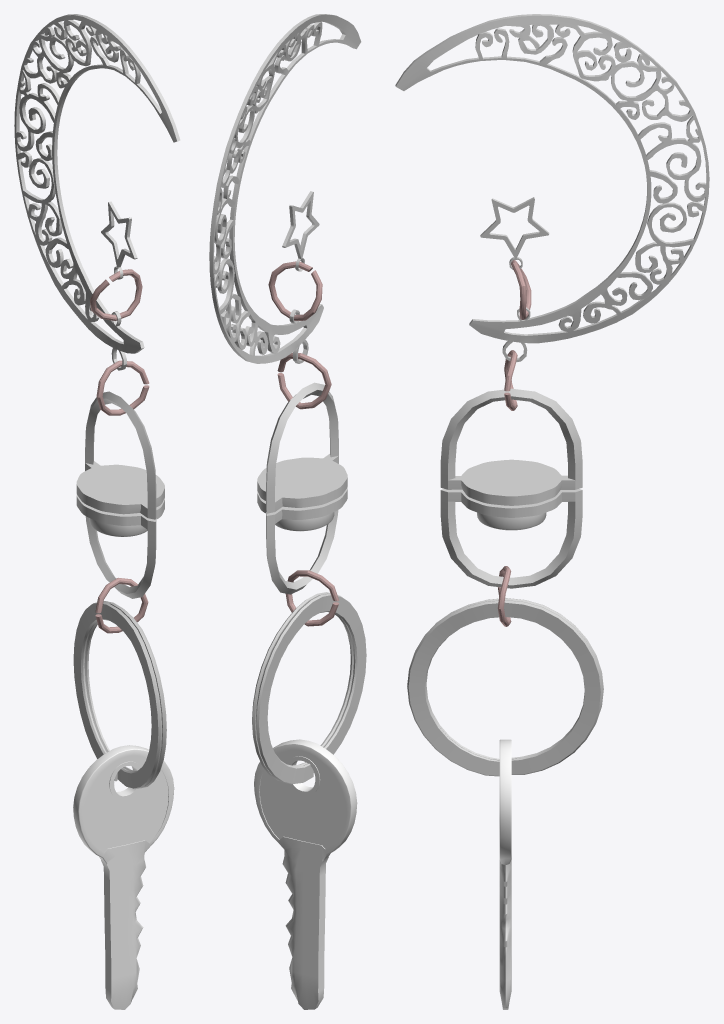
Rendered from AOKey.glb.
3 renders of one model, left to right at view 1: azimuth 30°, elevation 25°; view 2: azimuth 150°, elevation 25°; view 3: azimuth 270°, elevation 25°, orthographic. The views are drawn at different scales.
Parts seen in each view (by area): view 1: AOKeyCrescent, AOKeyKey, AOKeyChainHolder, AOKeyChain(FirstPiece), AOKeyChain(SecondPiece), AOKeyStar, AOKeySecondChainLink, AOKeyThirdChainLink, AOKeyFirstChainLink; view 2: AOKeyKey, AOKeyCrescent, AOKeyChainHolder, AOKeyChain(FirstPiece), AOKeyChain(SecondPiece), AOKeyThirdChainLink, AOKeyStar, AOKeySecondChainLink, AOKeyFirstChainLink; view 3: AOKeyCrescent, AOKeyChainHolder, AOKeyChain(FirstPiece), AOKeyChain(SecondPiece), AOKeyKey, AOKeyStar.
Part boxes in pixels (box(x1,y1,x2,y2)): AOKeyCrescent: box(14, 14, 180, 370); AOKeyKey: box(73, 745, 174, 1009); AOKeyChainHolder: box(73, 601, 166, 788); AOKeyChain(FirstPiece): box(76, 391, 164, 536); AOKeyChain(SecondPiece): box(76, 494, 164, 598); AOKeyStar: box(101, 201, 137, 279); AOKeySecondChainLink: box(96, 360, 149, 415); AOKeyThirdChainLink: box(90, 269, 142, 320); AOKeyFirstChainLink: box(95, 577, 148, 633); AOKeyKey: box(254, 739, 357, 1009); AOKeyCrescent: box(209, 14, 361, 363); AOKeyChainHolder: box(252, 592, 366, 784); AOKeyChain(FirstPiece): box(257, 382, 347, 531); AOKeyChain(SecondPiece): box(257, 487, 347, 594); AOKeyThirdChainLink: box(268, 261, 322, 320); AOKeyStar: box(282, 191, 319, 271); AOKeySecondChainLink: box(277, 352, 331, 409); AOKeyFirstChainLink: box(285, 570, 338, 626); AOKeyCrescent: box(395, 14, 709, 362); AOKeyChainHolder: box(407, 598, 603, 776); AOKeyChain(FirstPiece): box(440, 388, 582, 530); AOKeyChain(SecondPiece): box(440, 489, 582, 588); AOKeyKey: box(499, 739, 511, 1009); AOKeyStar: box(480, 197, 549, 269).
Size of the model in its own units: 0.014 by 0.1355 by 0.0389.
